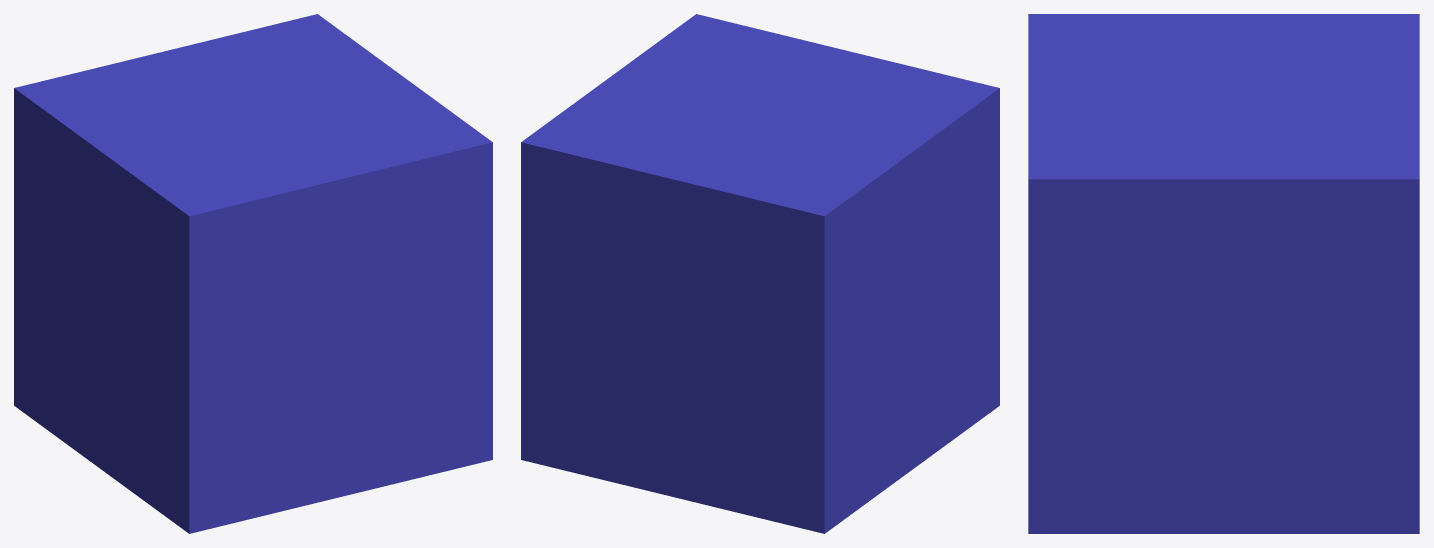
Rendered from ShieldPlayer.obj.
The picture shows the model from 3 angles, left to right: view 1: azimuth 30°, elevation 25°; view 2: azimuth 150°, elevation 25°; view 3: azimuth 270°, elevation 25°; orthographic projection. The views are drawn at different scales.
Bounding box in the file's own units: 5 × 5 × 5.
Materials: 1 (1 with a texture image).
